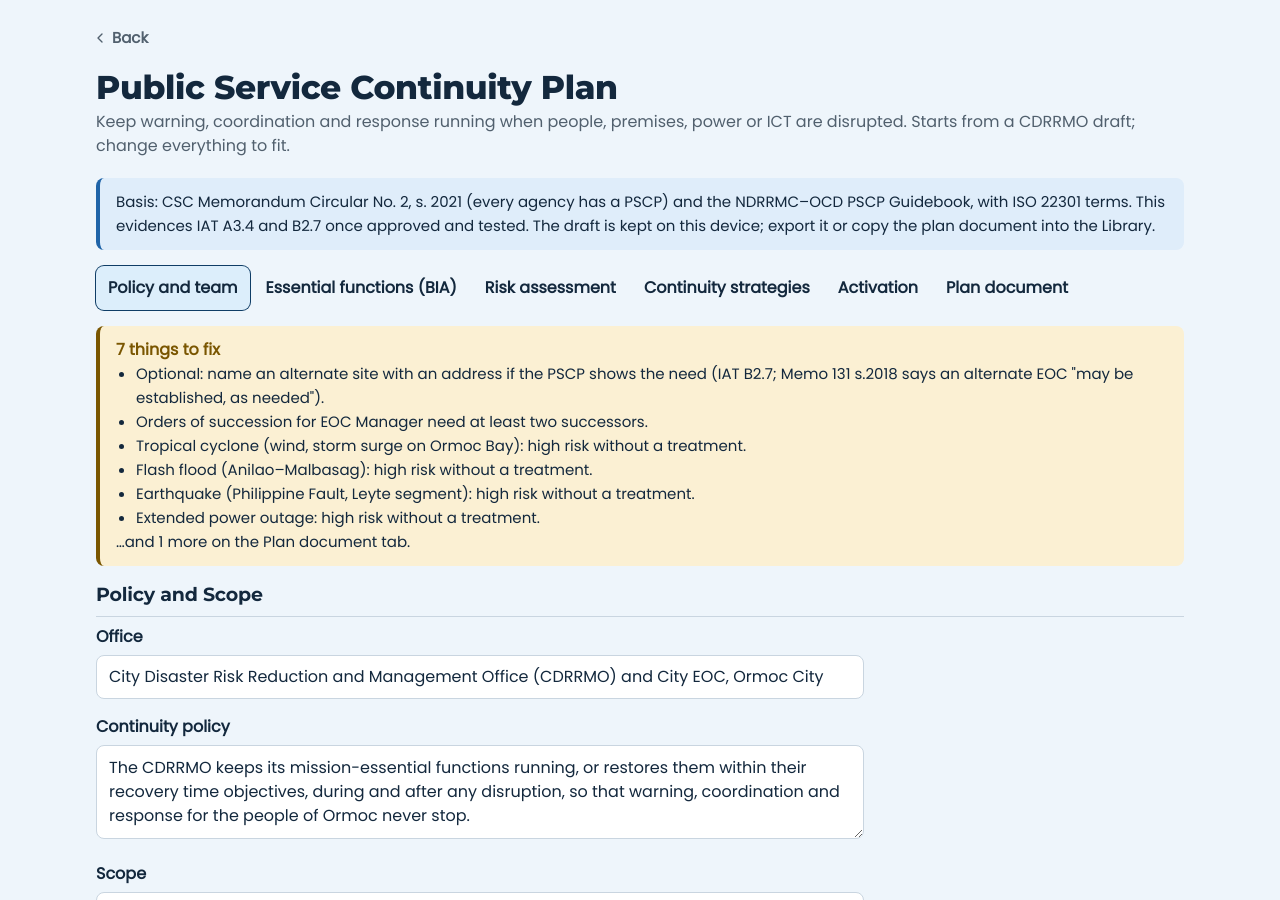
Scenario: PSCP and Gawad KALASAG screens › open the PSCP workbench, flag an RTO beyond the MTPD, and write the plan
Click the tab "Essential functions (BIA)": (361, 288) [254, 266, 469, 310]
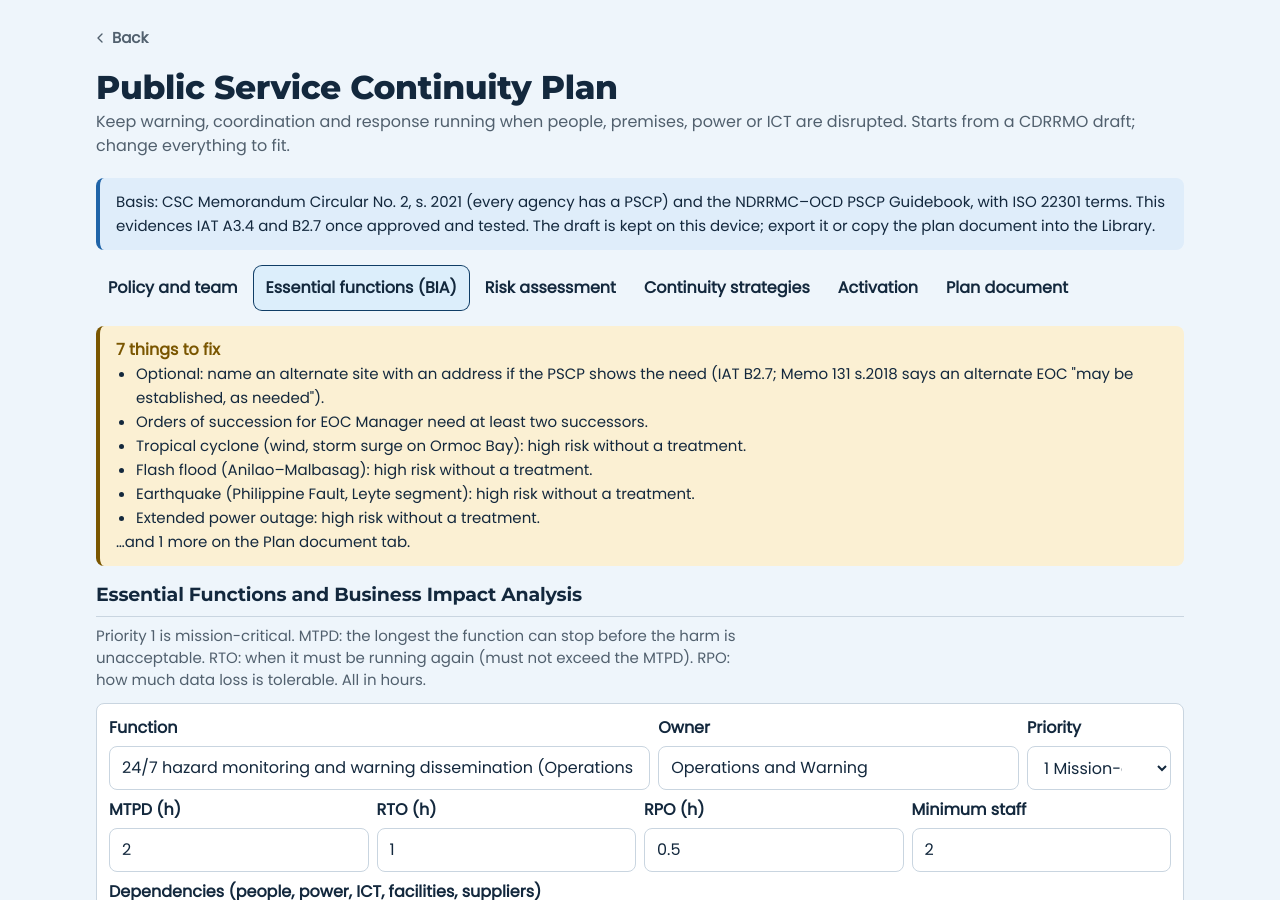
Replace the text in the number field labelled "RTO (h)" with "99": (506, 850) [376, 828, 636, 872]
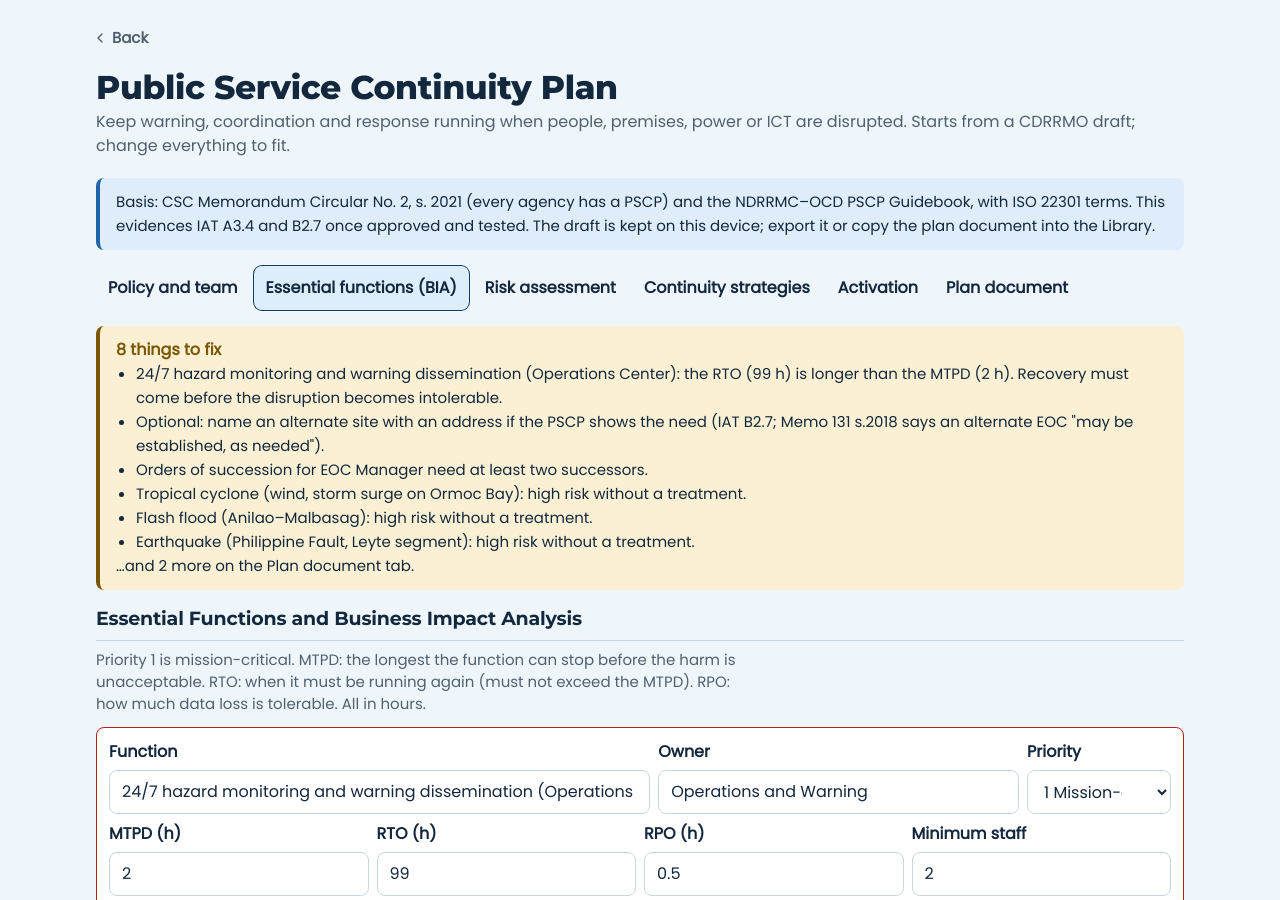
Click the tab "Plan document": (1007, 288) [934, 266, 1080, 310]
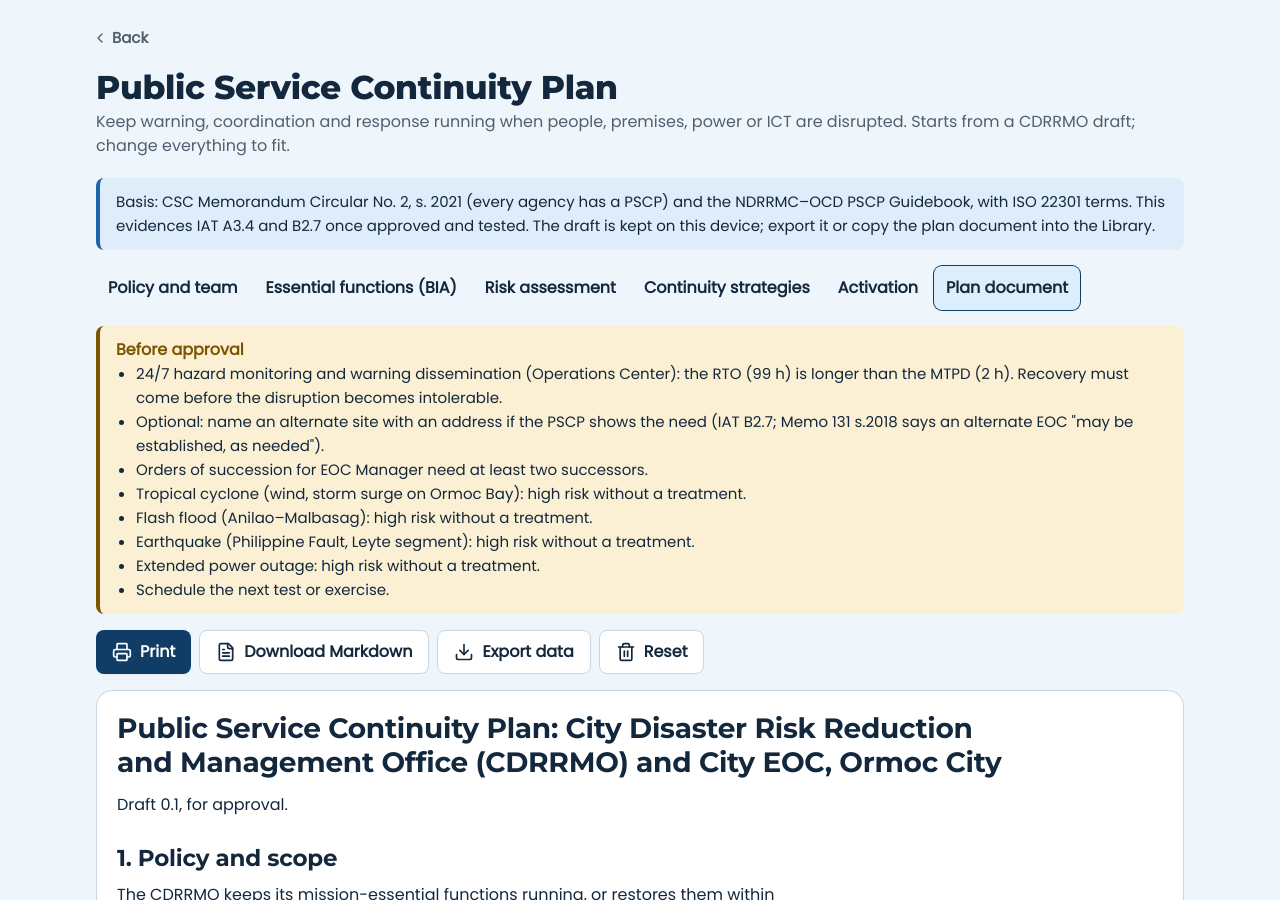
Expected: the heading "Public Service Continuity Plan: City Disaster" is shown, [117, 711, 1001, 779]
